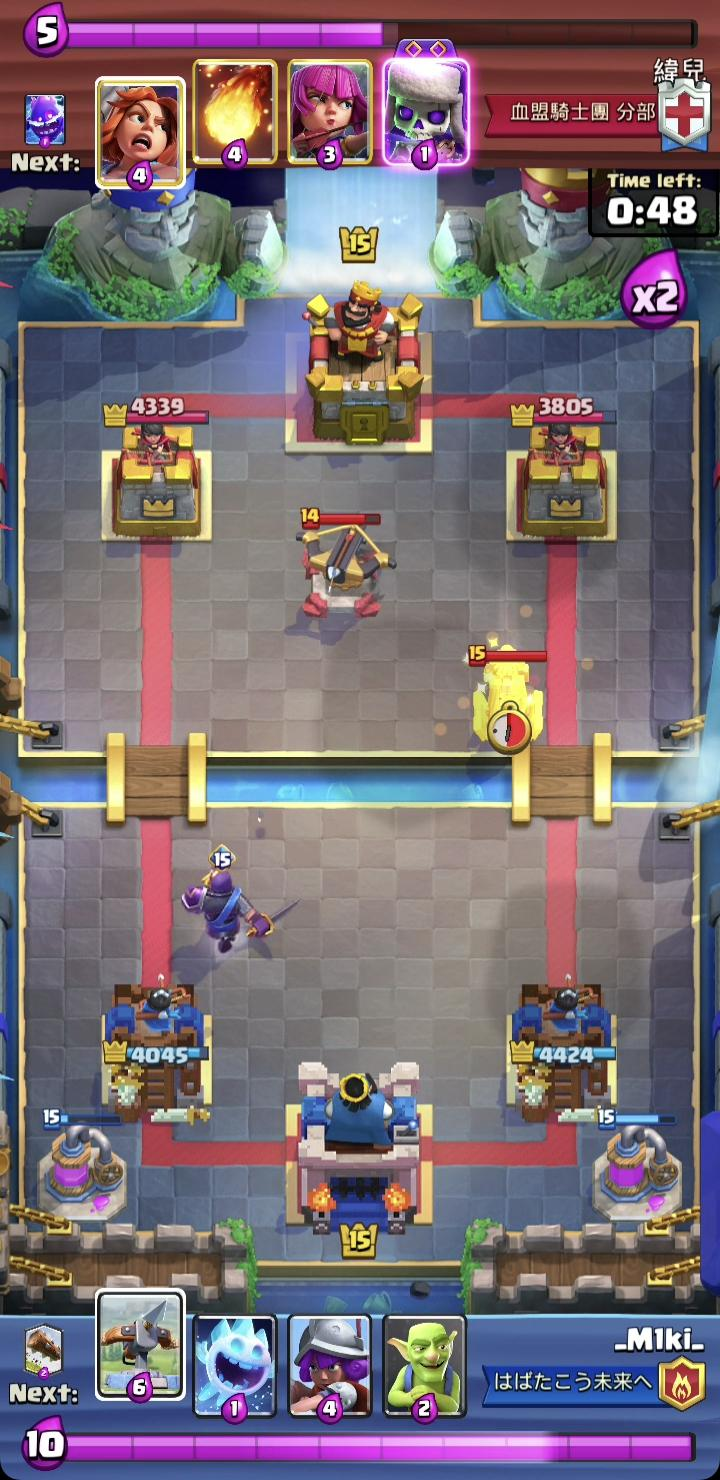ally_elixirpump: (591, 1106, 686, 1225), (35, 1108, 129, 1226)
ally_knight_evo: (180, 844, 301, 957)
enemy_tesla: (468, 642, 547, 747)
enemy_xbow: (291, 508, 397, 619)
